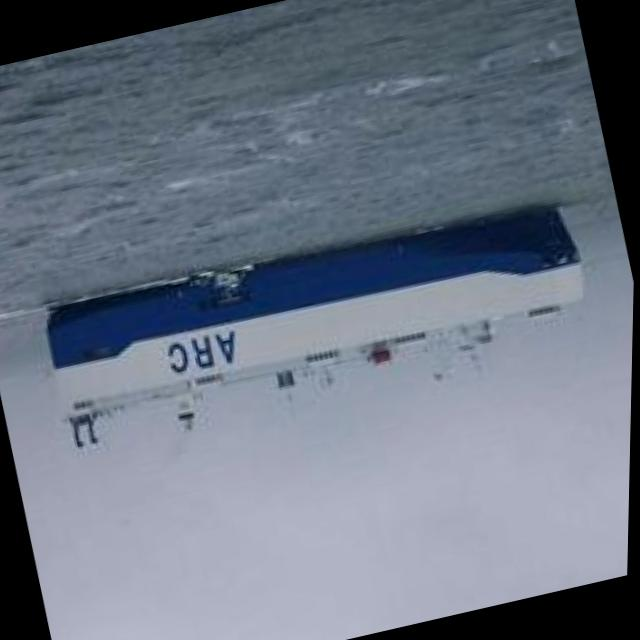ship2: (48, 202, 587, 453)
